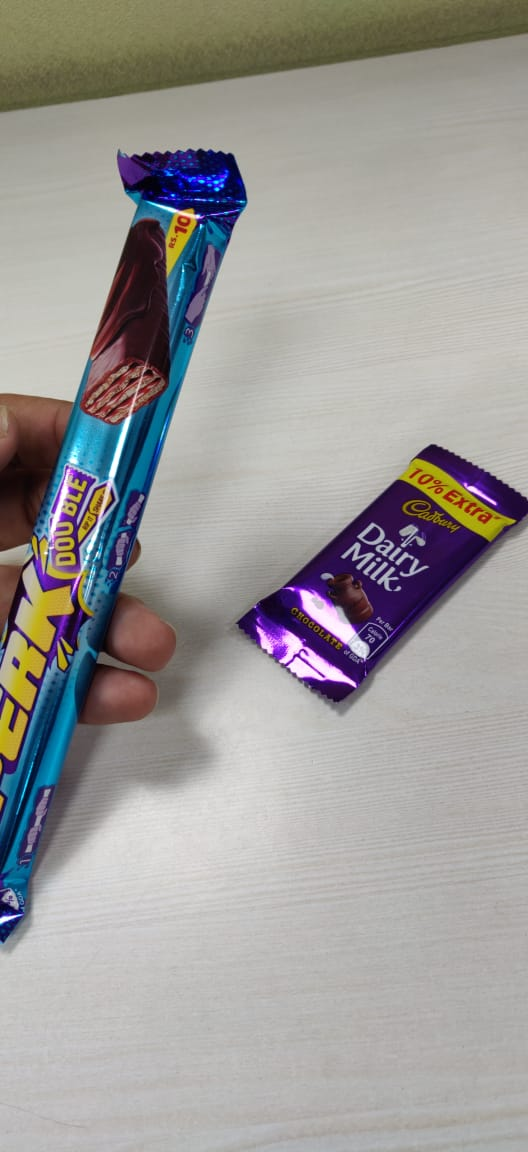dairy milk: (233, 428, 528, 725)
perk: (3, 120, 252, 983)
